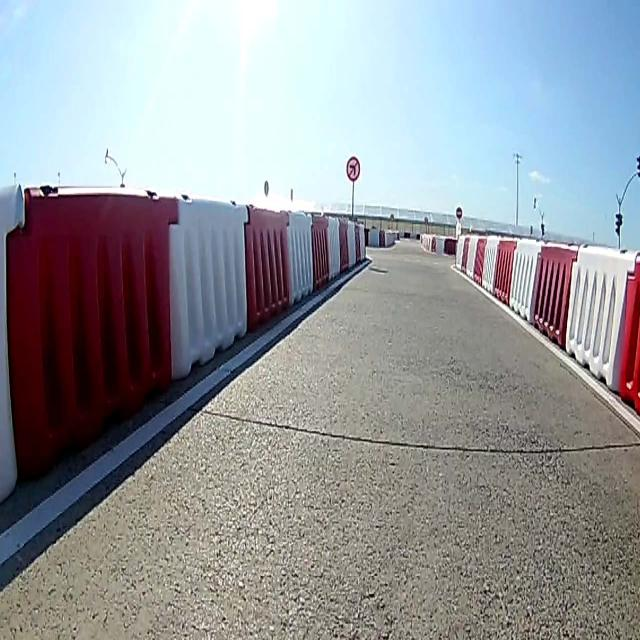soladonulmez: (345, 154, 364, 180)
